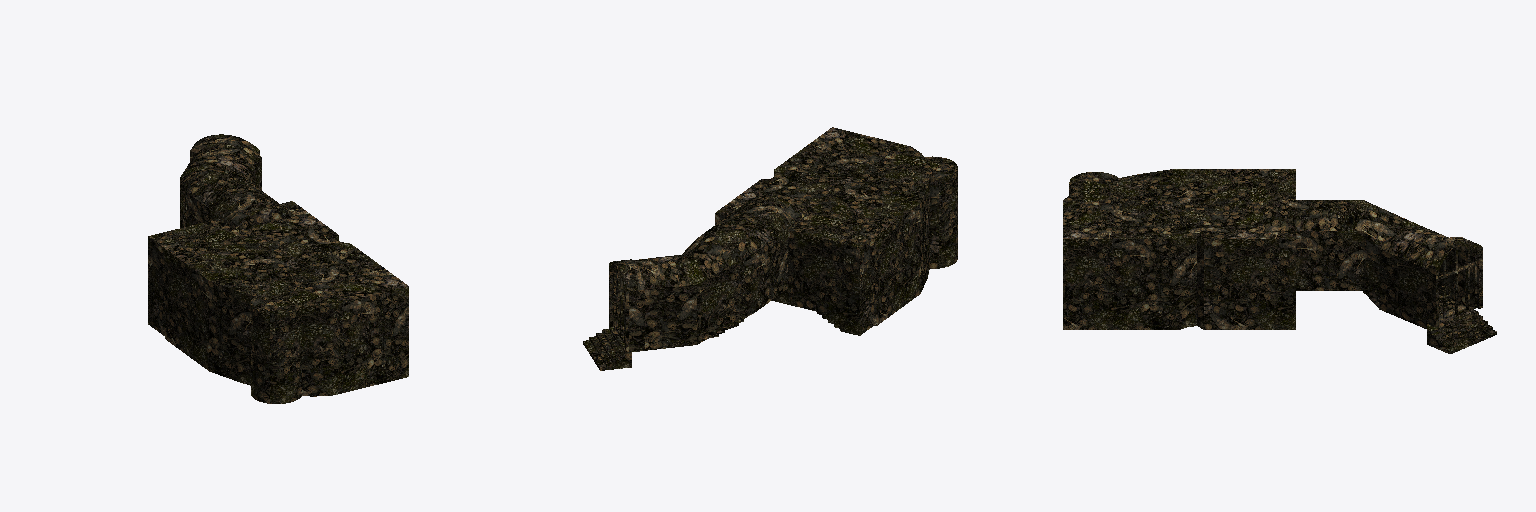
3 views of the same model, side by side, from view 1: azimuth 30°, elevation 25°; view 2: azimuth 150°, elevation 25°; view 3: azimuth 270°, elevation 25° (orthographic).
Visible parts, largest first — view 1: mesh0; view 2: mesh0; view 3: mesh0.
Boxes of the visible parts, <box> form: mesh0: <box>148,134,408,403</box>; mesh0: <box>583,127,957,370</box>; mesh0: <box>1063,169,1496,353</box>.
Size of the model in its own units: 6.92 by 3.46 by 13.05.
Materials: 1 (1 with a texture image).